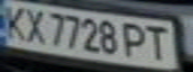2: (78, 15, 103, 53)
7: (42, 9, 66, 47), (60, 12, 81, 50)
8: (96, 17, 124, 56)
K: (0, 2, 33, 40)
P: (118, 20, 151, 60)
T: (142, 23, 175, 62)
X: (18, 6, 51, 44)
